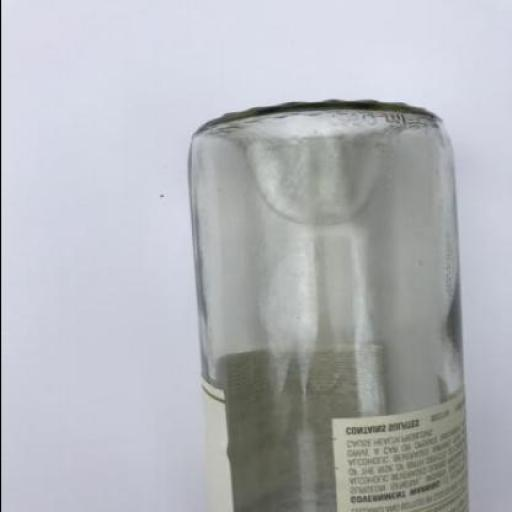glass: (186, 98, 466, 511)
